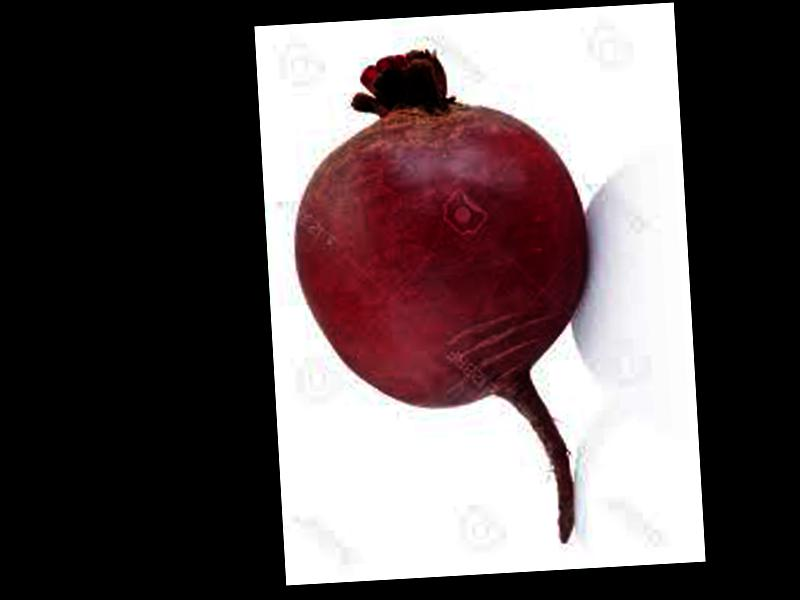Beet: (286, 47, 603, 557)
